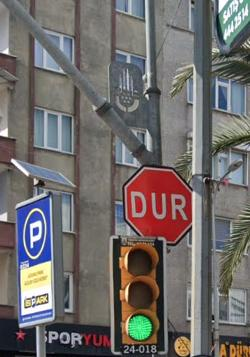greenlight: (119, 238, 160, 342)
park: (16, 202, 54, 260)
stop: (128, 168, 200, 241)
